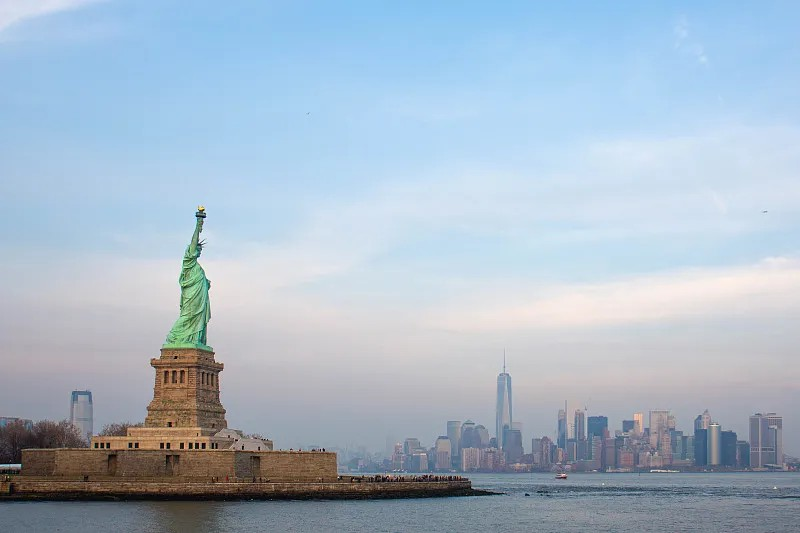SL: (144, 206, 228, 429)
